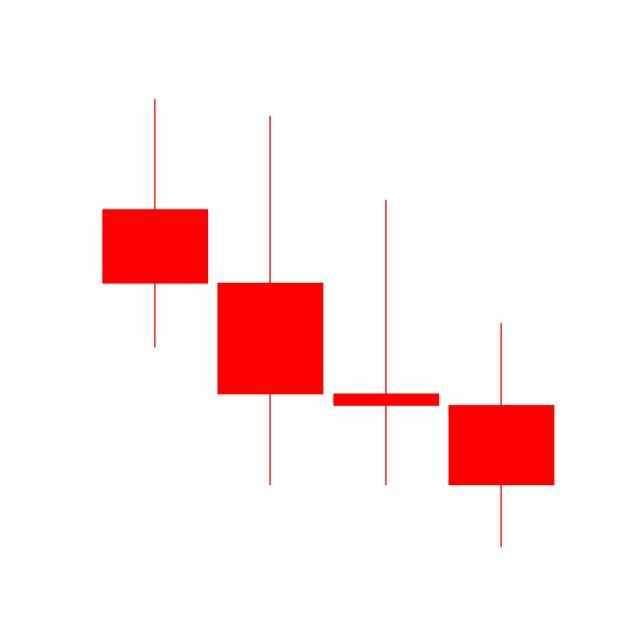Spinning Top: (329, 197, 445, 490)
